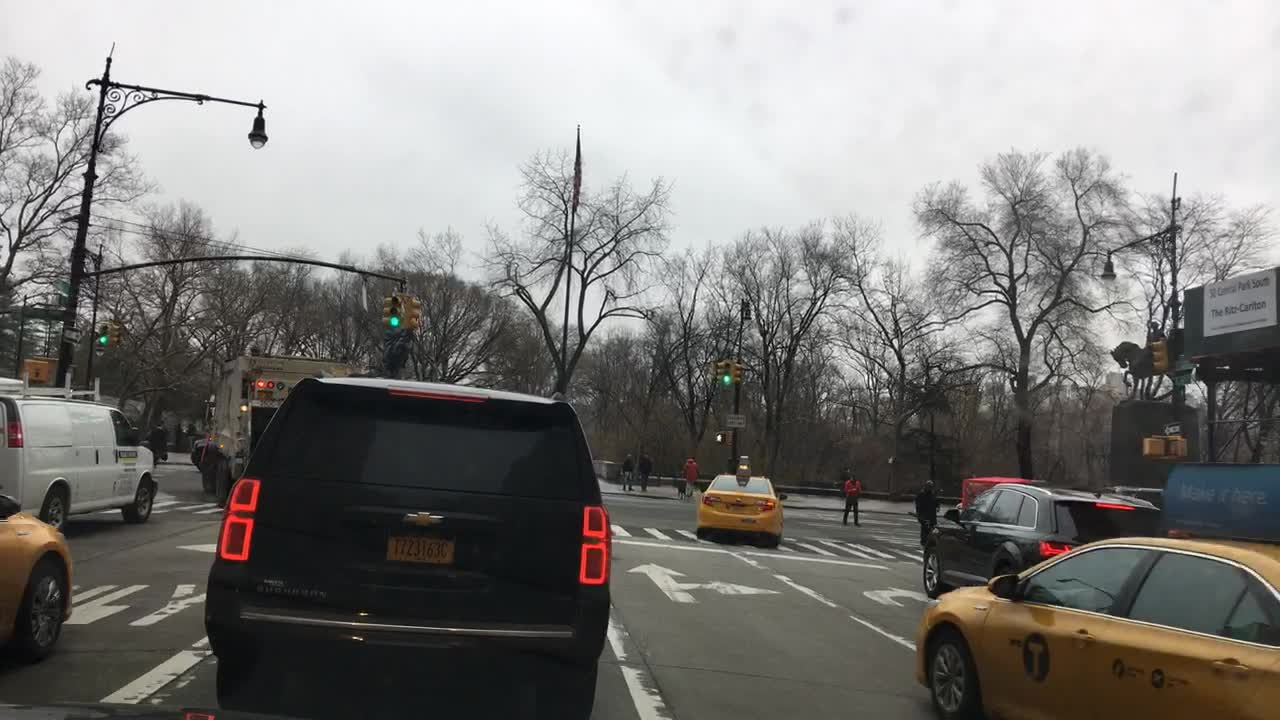car: (203, 376, 612, 718), (915, 535, 1278, 718), (922, 481, 1162, 607), (1, 368, 161, 533), (0, 494, 72, 657), (695, 456, 787, 549), (955, 477, 1028, 511), (1109, 487, 1160, 508)
person: (907, 477, 940, 541), (145, 418, 171, 468), (842, 471, 861, 527), (681, 454, 699, 499), (637, 449, 654, 494), (619, 453, 635, 492)
traffic light: (1148, 337, 1167, 373), (387, 294, 404, 330), (22, 357, 48, 380), (1166, 433, 1187, 460), (1142, 438, 1167, 458), (407, 295, 421, 326), (380, 294, 391, 323), (722, 359, 733, 387), (98, 321, 110, 346), (715, 431, 733, 446), (714, 360, 723, 387), (735, 361, 743, 382)
traffic sign: (63, 328, 85, 346), (1175, 373, 1200, 388), (357, 283, 368, 310), (726, 411, 743, 427), (55, 276, 70, 294), (1174, 359, 1196, 371), (56, 294, 70, 307)
truck: (188, 352, 372, 507)
